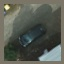car: (17, 24, 48, 49)
